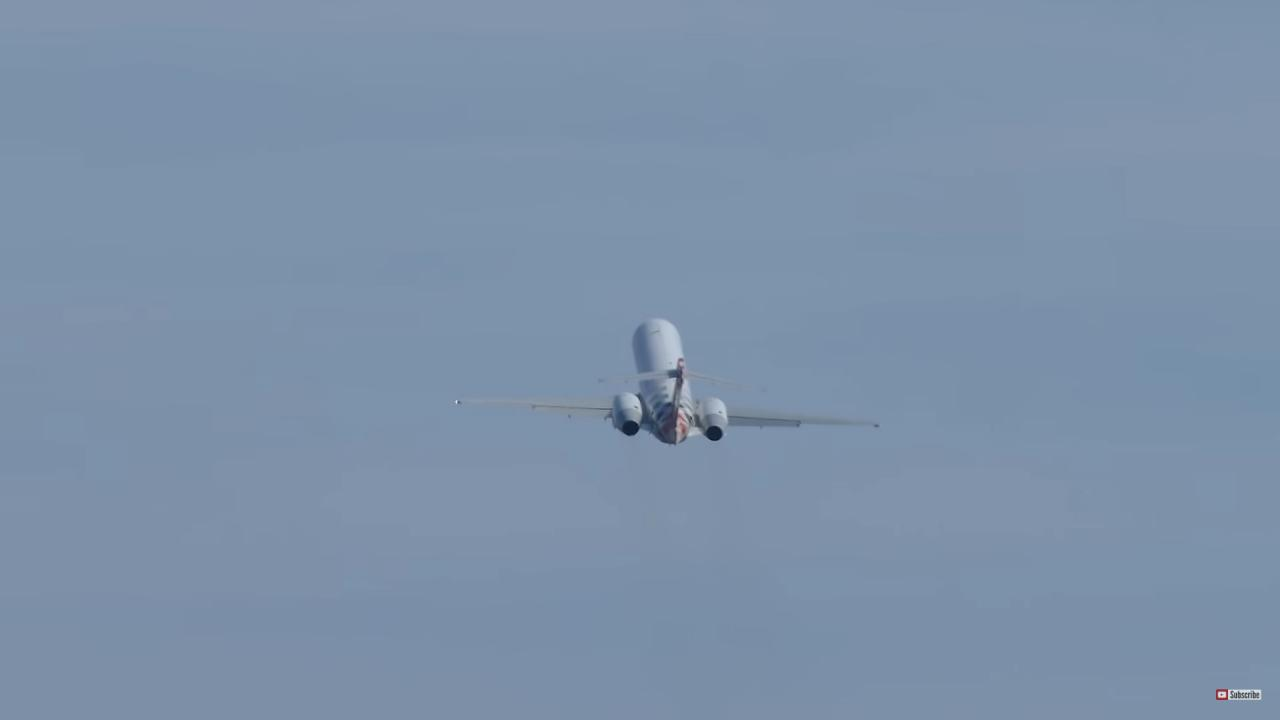Airplane: (427, 308, 898, 467)
